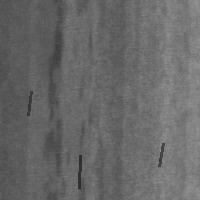inclusion: (60, 6, 98, 198), (41, 1, 74, 178), (157, 141, 165, 168), (26, 89, 33, 117), (77, 153, 82, 190)
